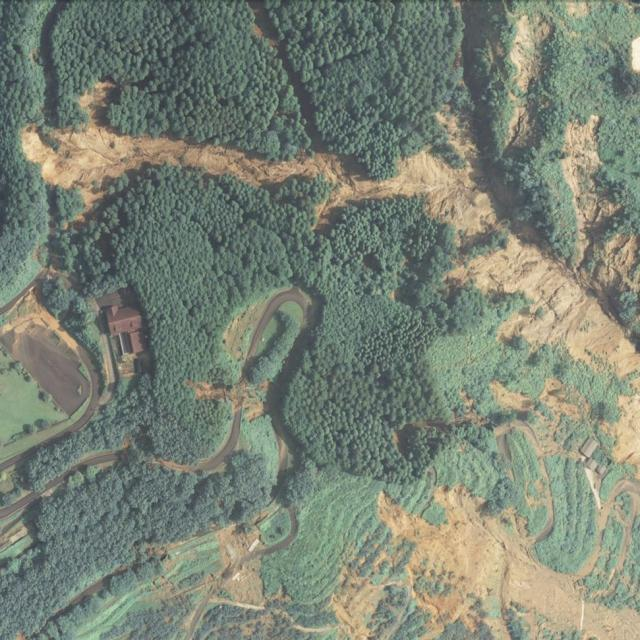landslide: (22, 82, 640, 639), (131, 528, 262, 627), (509, 10, 552, 151)
